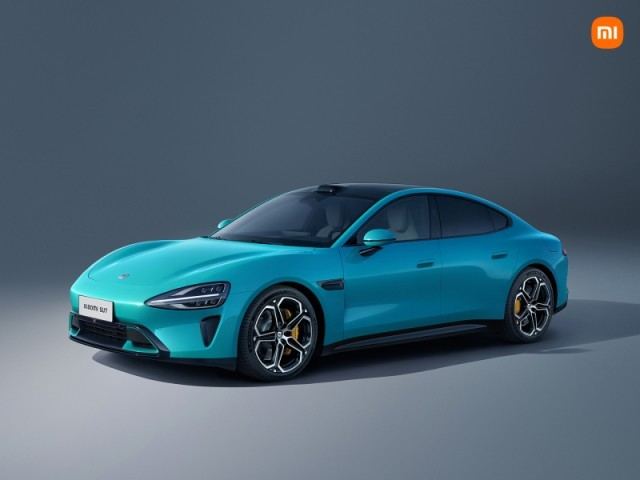su7: (82, 178, 567, 369)
